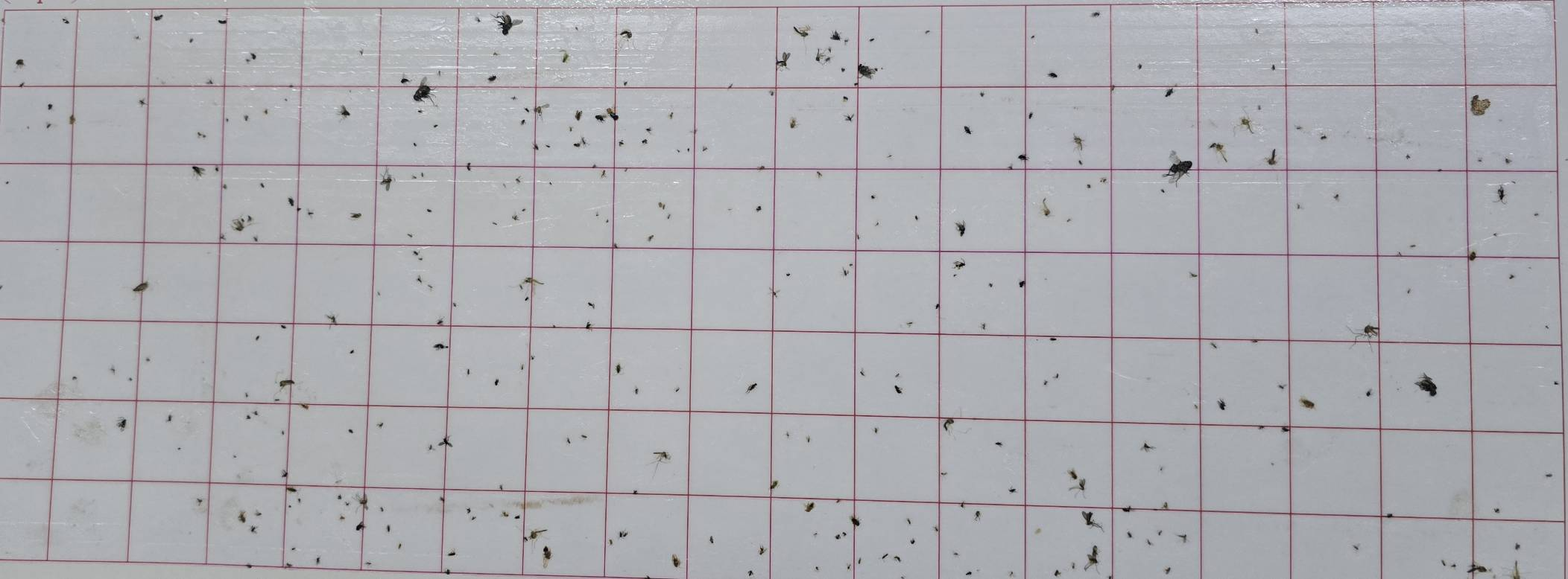fly: (853, 56, 887, 84), (1164, 156, 1192, 186), (412, 76, 438, 107), (493, 12, 524, 37), (1414, 372, 1439, 397)
test: (649, 449, 670, 478), (1349, 322, 1380, 341), (1084, 542, 1102, 571), (1081, 509, 1104, 531), (1243, 327, 1263, 350), (1470, 94, 1490, 116), (1208, 141, 1228, 163), (1238, 115, 1258, 135), (776, 50, 792, 71), (306, 551, 326, 567), (1466, 562, 1490, 575), (380, 170, 394, 192), (814, 47, 832, 64), (792, 24, 811, 39), (1209, 335, 1224, 354), (1072, 132, 1084, 154), (1438, 551, 1451, 571), (354, 492, 369, 509), (870, 422, 885, 439), (67, 370, 82, 387), (833, 530, 850, 545), (812, 162, 823, 184), (336, 104, 352, 119), (932, 517, 948, 532), (132, 280, 150, 293), (1265, 148, 1278, 166), (529, 527, 547, 540), (345, 344, 363, 357), (462, 365, 477, 380), (410, 244, 425, 259), (203, 74, 218, 89), (606, 106, 619, 123), (1299, 396, 1316, 409), (458, 160, 475, 173), (1161, 497, 1174, 514), (1496, 183, 1507, 203), (1041, 197, 1052, 217), (1511, 558, 1522, 578), (230, 217, 244, 232), (891, 551, 905, 566), (653, 449, 671, 460), (194, 495, 209, 508), (630, 383, 643, 398), (278, 320, 293, 333), (250, 329, 263, 344), (41, 119, 56, 132), (1267, 60, 1282, 73), (438, 435, 454, 447), (1317, 128, 1327, 147), (1099, 171, 1110, 188), (830, 29, 844, 42), (943, 417, 955, 432), (1140, 440, 1155, 452), (1075, 479, 1087, 494), (955, 220, 966, 236), (542, 544, 553, 560), (855, 365, 866, 381), (866, 188, 879, 201), (755, 162, 768, 175), (563, 434, 576, 447), (1276, 380, 1289, 393), (665, 106, 678, 119), (510, 210, 525, 221), (725, 78, 736, 93), (522, 276, 542, 284), (619, 29, 632, 41), (191, 165, 205, 176), (850, 513, 861, 527), (116, 416, 127, 430), (932, 298, 946, 309), (278, 378, 295, 387), (746, 381, 758, 393), (803, 500, 815, 512), (326, 313, 338, 325), (244, 52, 257, 63), (184, 32, 197, 43), (438, 489, 449, 502), (1027, 108, 1038, 121), (1047, 333, 1060, 344), (1122, 530, 1135, 541), (17, 80, 28, 93), (978, 318, 991, 329), (630, 486, 643, 497), (140, 354, 153, 365), (743, 564, 756, 575), (976, 87, 987, 100), (395, 540, 408, 551), (373, 419, 388, 428), (706, 530, 715, 545), (986, 275, 995, 290), (534, 104, 545, 116), (1068, 468, 1079, 480), (1176, 532, 1188, 543), (240, 108, 252, 119), (953, 260, 966, 270), (672, 553, 681, 567), (1051, 566, 1062, 577), (1217, 398, 1227, 410), (433, 341, 448, 349), (1468, 249, 1478, 261), (529, 141, 541, 151), (1032, 527, 1044, 537), (244, 213, 256, 223), (237, 509, 246, 522), (1144, 536, 1153, 549), (609, 240, 622, 249), (261, 106, 270, 119), (770, 478, 780, 489), (854, 554, 864, 565), (250, 524, 260, 535), (413, 273, 423, 284), (973, 509, 982, 521), (1164, 564, 1176, 573), (766, 88, 778, 97), (907, 536, 919, 545), (1157, 186, 1169, 195), (382, 525, 397, 532), (1159, 525, 1166, 540), (1165, 87, 1175, 97), (15, 58, 25, 68), (355, 520, 365, 530), (197, 131, 207, 141), (348, 424, 358, 434), (426, 281, 436, 291), (595, 113, 606, 122), (894, 383, 903, 394), (400, 75, 411, 84), (1135, 60, 1144, 71), (304, 207, 315, 216), (1017, 153, 1029, 161), (789, 117, 797, 129), (286, 485, 298, 493), (562, 51, 570, 63), (349, 212, 362, 219), (281, 562, 294, 569), (423, 205, 436, 212), (963, 125, 972, 135), (618, 529, 628, 538), (845, 113, 855, 122), (771, 287, 780, 297), (255, 509, 264, 519), (245, 562, 255, 571), (1395, 250, 1404, 260), (885, 152, 895, 161), (287, 196, 295, 207), (904, 316, 915, 324), (497, 482, 505, 493), (805, 434, 813, 445), (844, 563, 855, 571), (1256, 101, 1264, 112), (615, 362, 622, 374), (473, 14, 482, 23), (1085, 182, 1094, 191), (1122, 504, 1132, 512), (758, 544, 766, 554), (580, 137, 590, 145), (363, 558, 373, 566), (444, 567, 454, 575), (516, 281, 526, 289), (501, 509, 509, 519), (939, 470, 949, 478), (834, 496, 844, 504), (1258, 423, 1268, 431), (1533, 210, 1541, 220), (1474, 156, 1484, 164), (1294, 202, 1304, 210), (1006, 163, 1016, 171), (1066, 215, 1074, 225), (219, 233, 227, 243), (221, 182, 231, 190), (1048, 71, 1059, 78), (575, 110, 582, 121), (1110, 83, 1117, 94), (842, 269, 851, 277), (436, 316, 445, 324), (658, 201, 666, 210), (464, 504, 473, 512), (590, 161, 598, 170), (523, 105, 531, 114), (645, 125, 654, 133), (295, 495, 303, 504), (519, 362, 527, 371), (524, 294, 532, 303), (550, 323, 559, 331), (523, 535, 531, 544), (813, 564, 821, 573), (880, 550, 888, 559), (1409, 242, 1418, 250), (1435, 167, 1444, 175), (1295, 124, 1304, 132), (836, 66, 845, 74), (252, 235, 260, 244), (214, 164, 222, 173), (69, 115, 76, 125), (153, 14, 163, 21), (1091, 11, 1101, 18), (487, 75, 497, 82), (109, 364, 116, 374), (300, 402, 310, 409), (281, 467, 291, 474), (840, 93, 850, 100), (493, 50, 500, 60), (515, 175, 522, 185), (1193, 401, 1200, 411), (1545, 321, 1551, 332), (138, 98, 146, 106), (1365, 388, 1373, 396), (587, 301, 595, 309), (1333, 192, 1341, 200), (646, 233, 654, 241), (1352, 542, 1360, 550), (410, 173, 418, 181), (641, 138, 649, 146), (701, 146, 709, 154), (127, 375, 135, 383), (339, 513, 347, 521), (513, 513, 521, 521), (959, 501, 967, 509), (1405, 152, 1413, 160), (1405, 286, 1413, 294), (1253, 27, 1261, 35), (923, 27, 931, 35), (912, 214, 920, 222), (785, 271, 793, 279), (134, 34, 142, 42), (358, 48, 366, 56), (1282, 425, 1291, 432), (586, 320, 593, 329), (1514, 541, 1521, 550), (1189, 271, 1198, 278), (1008, 486, 1017, 493), (581, 431, 588, 440), (813, 530, 820, 539), (1157, 465, 1166, 472), (1553, 379, 1560, 388), (665, 212, 672, 221), (217, 19, 227, 25), (447, 549, 457, 555), (48, 102, 55, 110), (1018, 279, 1025, 287), (755, 204, 762, 212), (166, 413, 173, 421), (62, 18, 70, 25), (1505, 156, 1513, 163), (600, 169, 607, 177), (511, 94, 518, 102), (419, 171, 426, 179), (567, 125, 575, 132), (500, 182, 508, 189), (280, 430, 287, 438), (344, 500, 351, 508), (427, 443, 434, 451), (674, 385, 681, 393), (905, 518, 913, 525), (1041, 378, 1049, 385), (1269, 459, 1277, 466), (1077, 158, 1084, 166), (873, 220, 881, 227), (847, 261, 854, 269), (224, 115, 231, 123), (494, 377, 500, 386), (623, 80, 629, 89), (573, 142, 582, 148), (285, 503, 294, 509), (952, 549, 961, 555), (965, 570, 974, 576), (1071, 560, 1077, 569), (1386, 510, 1393, 517), (259, 179, 266, 186), (432, 123, 439, 130), (412, 141, 419, 148), (618, 140, 625, 147), (685, 146, 692, 153), (243, 391, 250, 398), (245, 414, 252, 421), (450, 301, 457, 308), (375, 289, 382, 296), (608, 539, 615, 546), (1054, 372, 1061, 379), (1492, 231, 1499, 238), (1029, 33, 1036, 40), (4, 180, 11, 187), (995, 440, 1003, 446), (1509, 273, 1517, 279), (1544, 471, 1552, 477), (416, 107, 424, 113), (490, 221, 498, 227), (380, 504, 386, 512), (1007, 570, 1015, 576), (1510, 179, 1516, 187), (868, 37, 876, 43), (282, 96, 290, 102), (1494, 506, 1501, 512), (521, 118, 527, 125), (693, 128, 699, 135), (406, 231, 413, 237), (176, 446, 183, 452), (274, 397, 281, 403), (337, 493, 343, 500), (530, 354, 536, 361), (786, 431, 792, 438), (844, 38, 851, 44), (855, 233, 862, 239), (546, 181, 554, 186), (252, 411, 260, 416), (545, 143, 551, 149), (624, 166, 630, 172), (471, 516, 477, 522), (895, 372, 901, 378), (1107, 573, 1113, 579), (437, 71, 442, 78), (726, 207, 733, 212), (288, 83, 293, 90), (574, 25, 580, 30), (594, 212, 600, 217), (231, 454, 237, 459), (291, 547, 297, 552), (952, 272, 958, 277), (605, 218, 610, 223), (676, 148, 680, 153)
